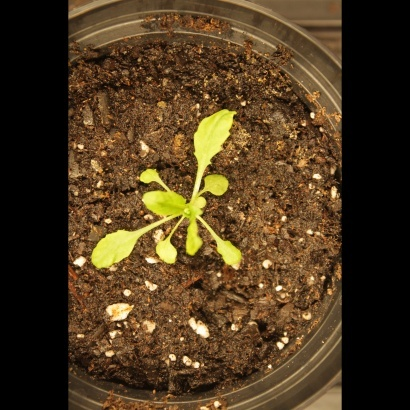leaf: (187, 106, 235, 170), (87, 226, 155, 270), (134, 191, 194, 220), (215, 234, 253, 278), (197, 170, 236, 207), (148, 232, 183, 271), (182, 218, 210, 260), (136, 166, 165, 189)
